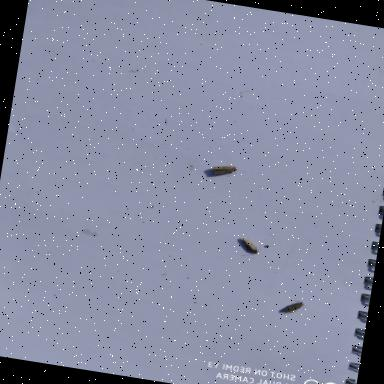pbw: (207, 158, 241, 180), (278, 296, 306, 318), (236, 235, 264, 252)
